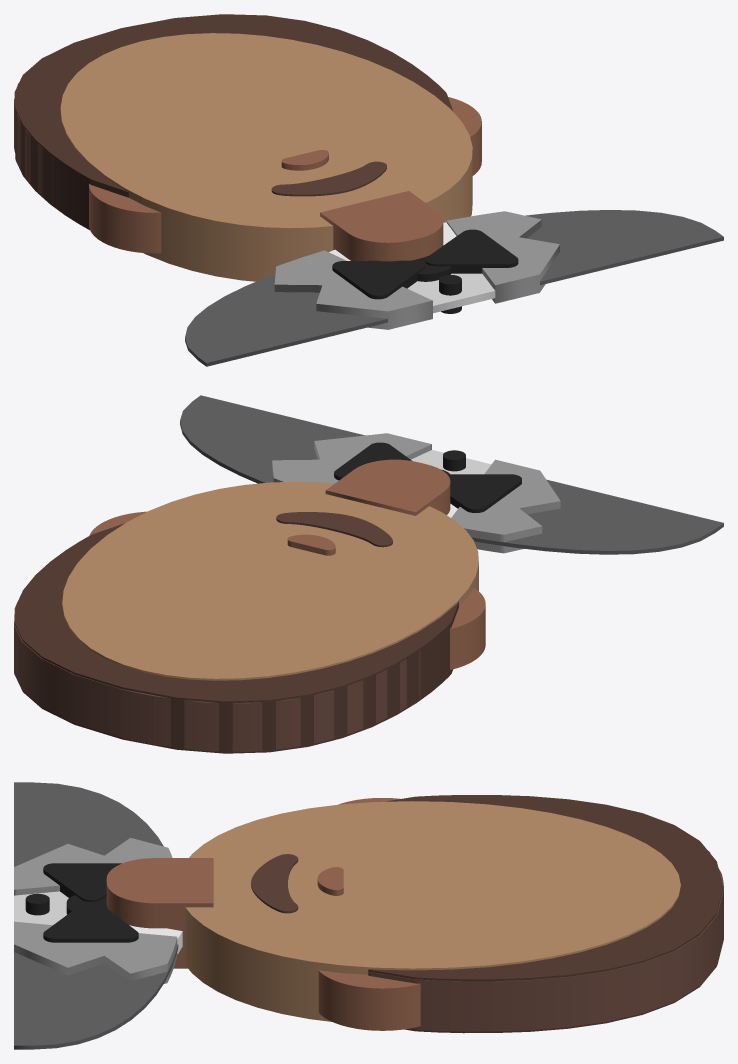
File: emoji_u1f935_1f3fd_200d_2642.glb
3 views of the same model, one above another, from view 1: azimuth 30°, elevation 25°; view 2: azimuth 150°, elevation 25°; view 3: azimuth 270°, elevation 25° (orthographic). The views are drawn at different scales.
Parts seen in each view (by area): view 1: emoji_u1f935_1f3fd_200d_2642; view 2: emoji_u1f935_1f3fd_200d_2642; view 3: emoji_u1f935_1f3fd_200d_2642.
Boxes of the visible parts, box(x1,y1,x2,y2) form: emoji_u1f935_1f3fd_200d_2642: box(14, 14, 723, 366); emoji_u1f935_1f3fd_200d_2642: box(14, 395, 723, 753); emoji_u1f935_1f3fd_200d_2642: box(14, 782, 723, 1049).
Size of the model in its own units: 0.0294 by 0.0036 by 0.0334.
